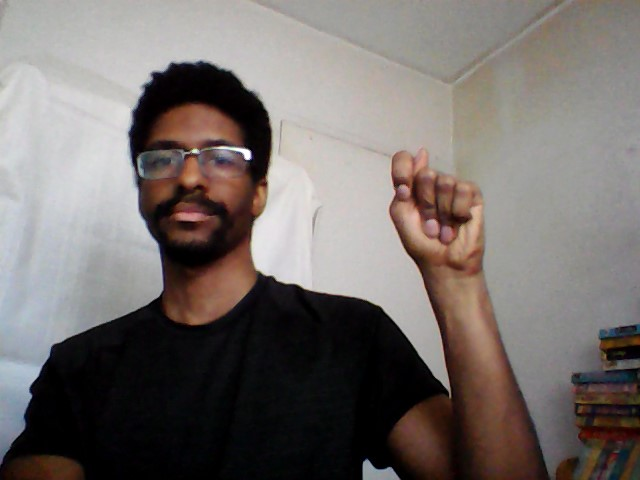t: (384, 145, 494, 275)
